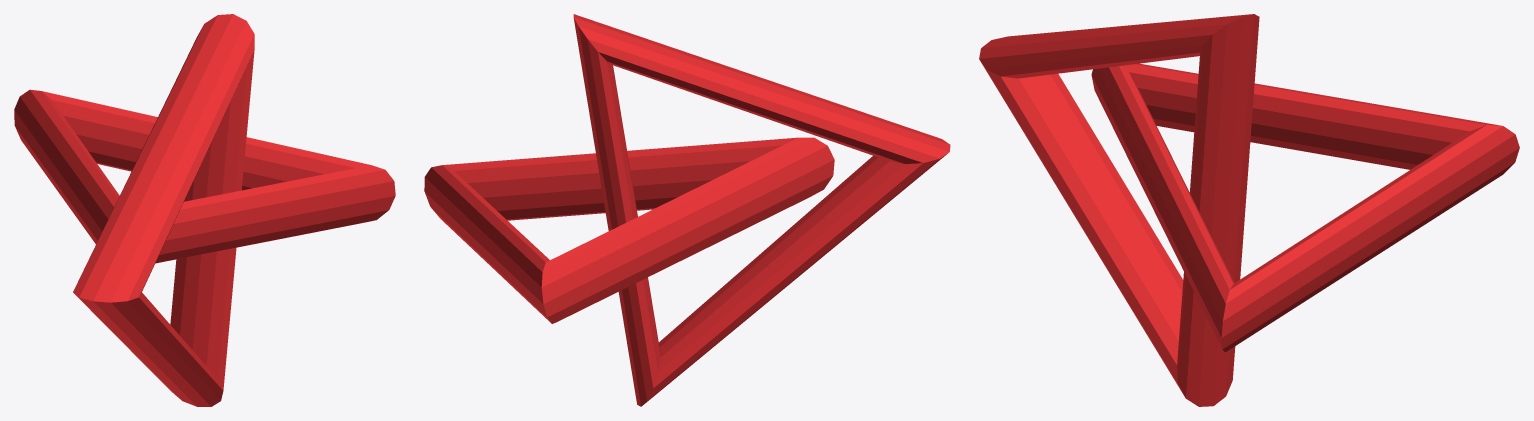
Rendered from TriangleEvil.fbx.
3 renders of one model, left to right at view 1: azimuth 30°, elevation 25°; view 2: azimuth 150°, elevation 25°; view 3: azimuth 270°, elevation 25°, orthographic. The views are drawn at different scales.
Parts seen in each view (by area): view 1: Triangle, Triangle.001; view 2: Triangle.001, Triangle; view 3: Triangle.001, Triangle.
Part boxes in pixels (box(x1,y1,x2,y2)): Triangle: box(73, 14, 254, 406); Triangle.001: box(14, 89, 395, 263); Triangle.001: box(424, 137, 834, 323); Triangle: box(573, 14, 950, 406); Triangle.001: box(1091, 63, 1519, 352); Triangle: box(979, 14, 1259, 406).
Size of the model in its own units: 641 by 553 by 652.
